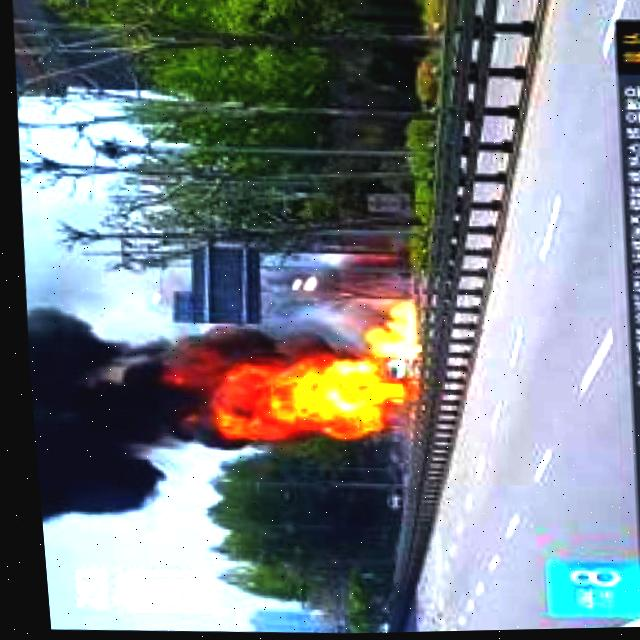Fire: (150, 330, 407, 443), (368, 307, 418, 362)
Smoke: (19, 300, 169, 529)
